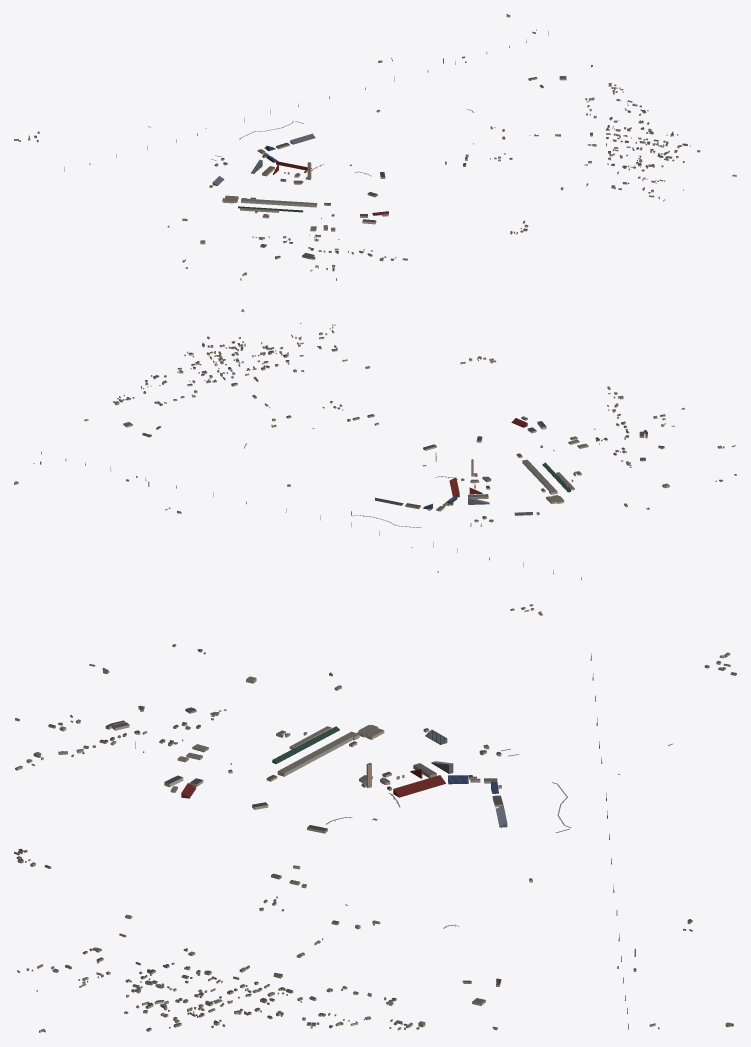
The model's file is scenery.glb.
3 views of the same model, one above another, from view 1: azimuth 30°, elevation 25°; view 2: azimuth 150°, elevation 25°; view 3: azimuth 270°, elevation 25° (orthographic). The views are drawn at different scales.
Parts seen in each view (by area): view 1: chunk_13_15, chunk_13_14; view 2: chunk_13_15, chunk_13_14; view 3: chunk_13_15, chunk_13_14, chunk_17_16, chunk_14_14, chunk_17_15.
Part boxes in pixels (x1,y1,x2,y2): chunk_13_15: (238,198,334,219); chunk_13_14: (212,154,303,199); chunk_13_15: (516,445,581,494); chunk_13_14: (446,476,545,515); chunk_13_15: (228,726,359,781); chunk_13_14: (349,729,476,784); chunk_17_16: (81,947,212,1005); chunk_14_14: (361,763,445,820); chunk_17_15: (210,952,343,1003).
Bounding box in the file's own units: 2809 × 101 × 2205.
